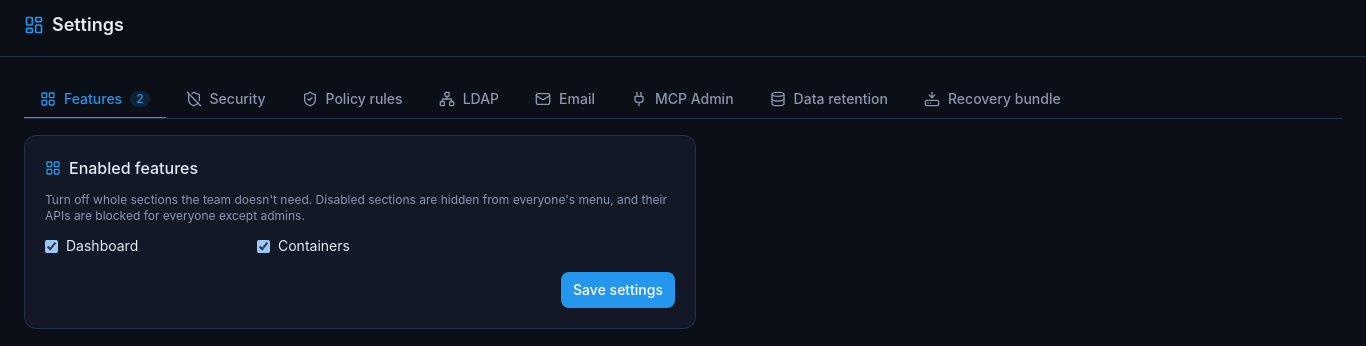
Test case: Settings save feedback › shows a failed save in the failure colour, not the success one
What coordinates should you click on to do the following:
click the button "Save settings"
I would click on:
 (618, 290)
Its box is [561,272,675,308].
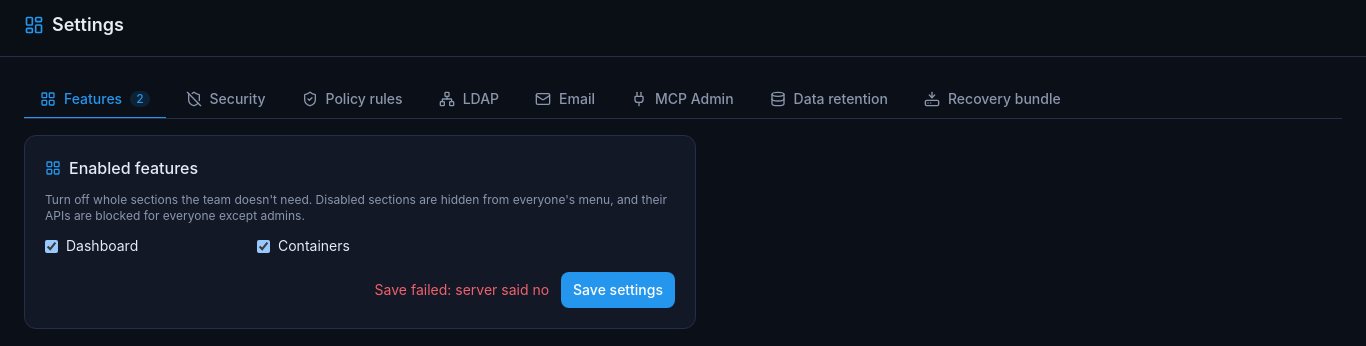
Check: the text "Save failed: server said no" is shown, box [375,280,549,300]
